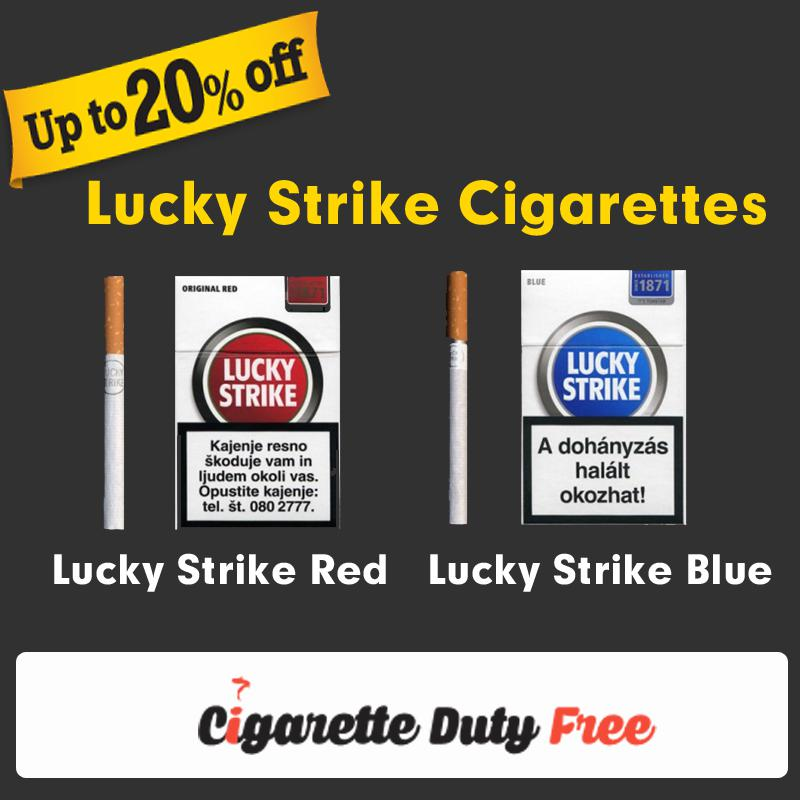lucky_strike_blue: (525, 271, 685, 522)
lucky_strike_red: (174, 278, 339, 529)
